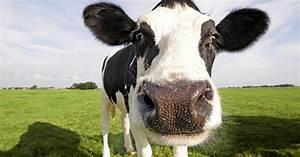cow: (81, 0, 270, 156)
